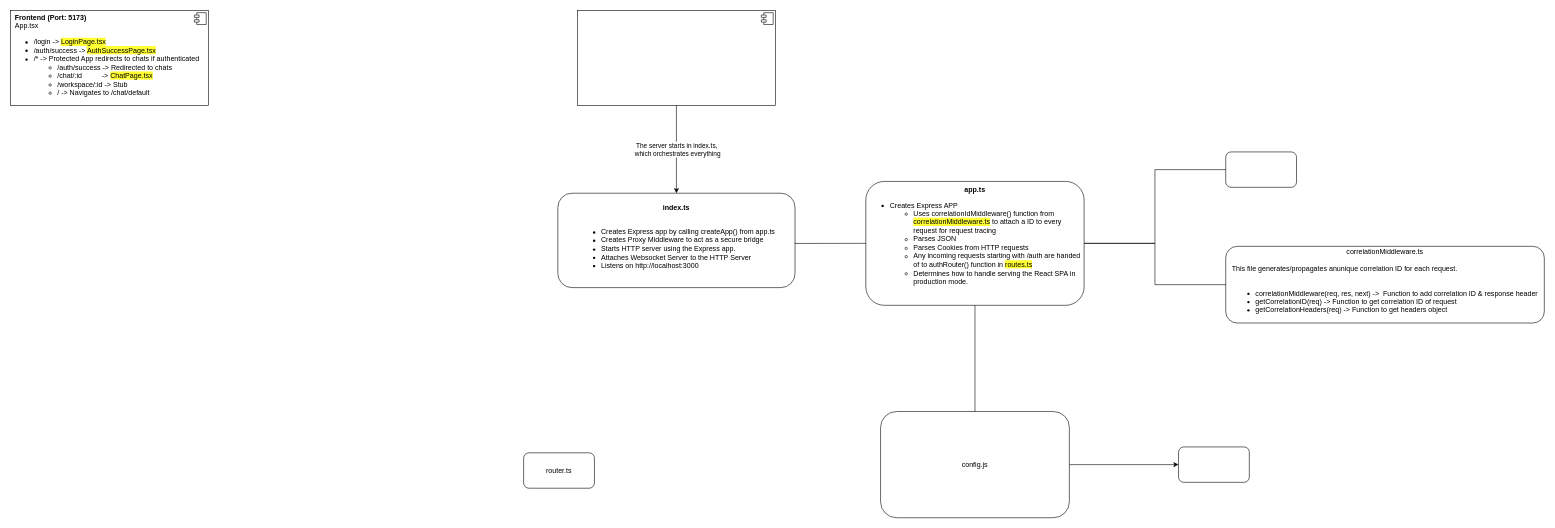
Some shapes in this 1555 by 528 pixel diagram are drawn without their labels. Here are the shapes that lost their labels. From the top down, the box of each, then its label:
(577, 10, 776, 105): Express Server (Port: 3000)
(1225, 151, 1297, 187): routes.js
(1178, 446, 1249, 482): env.ts
